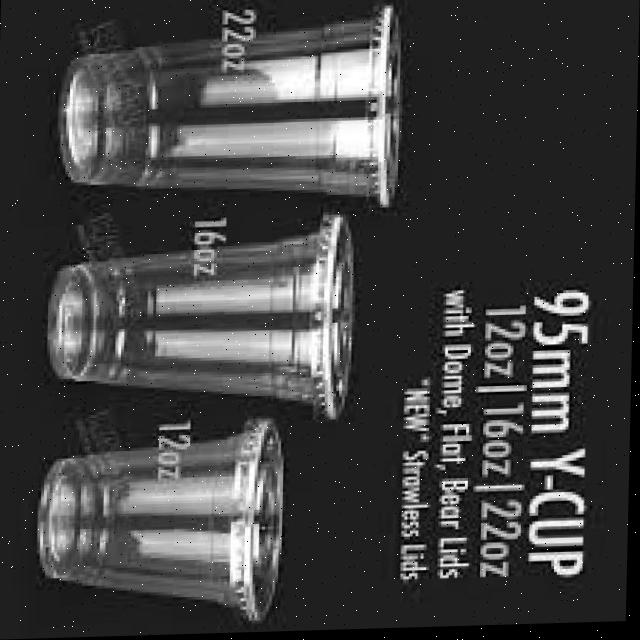cup: (47, 13, 428, 218), (37, 211, 390, 424), (29, 426, 312, 629)
